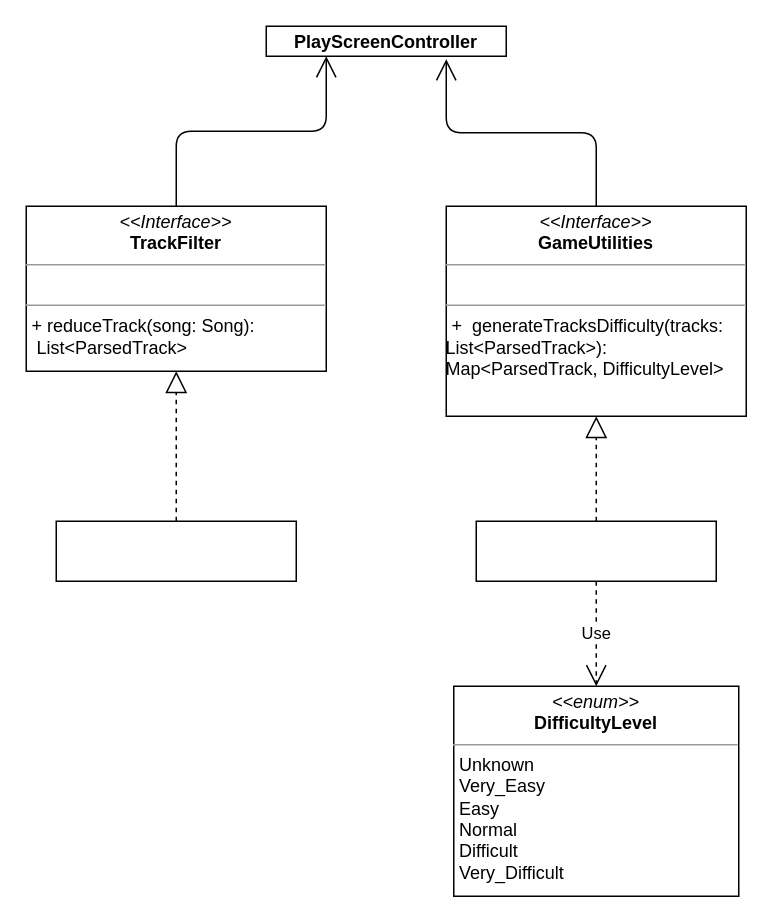
Some shapes in this 773 by 923 pixel diagram are drawn without their labels. The shapes that lost their labels are listed below. From the top down, each one's box as (x1, y1, x2, y2) in pixels, then its label:
(55, 520, 296, 581): TrackFIlterImpl
(475, 520, 716, 581): GameUtilitiesImpl
